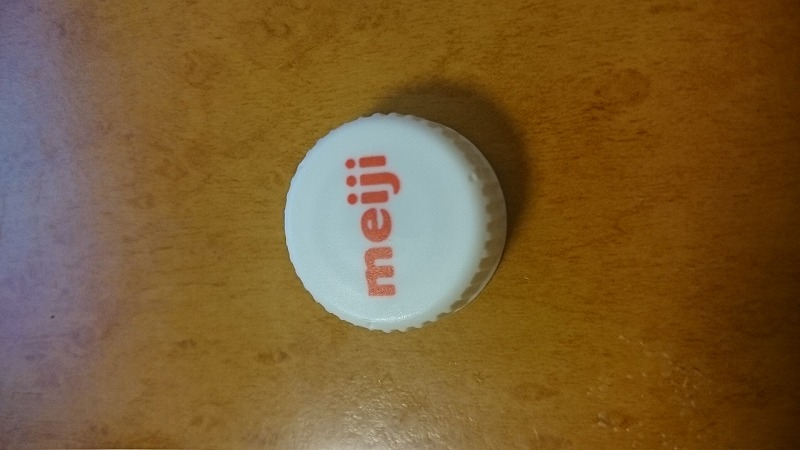B: (269, 106, 525, 335)
